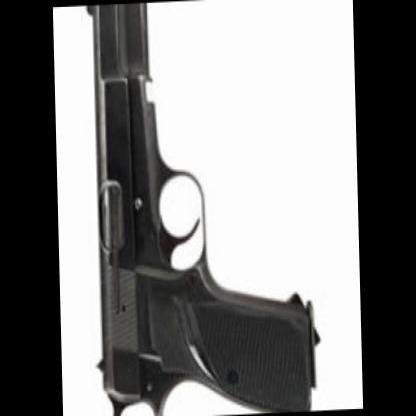pistol: (79, 0, 317, 412)
